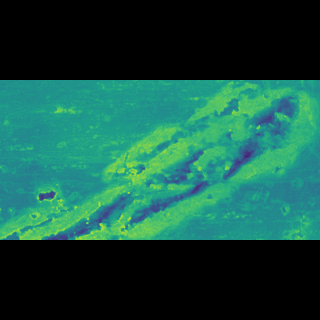Loch: (1, 119, 315, 199)
